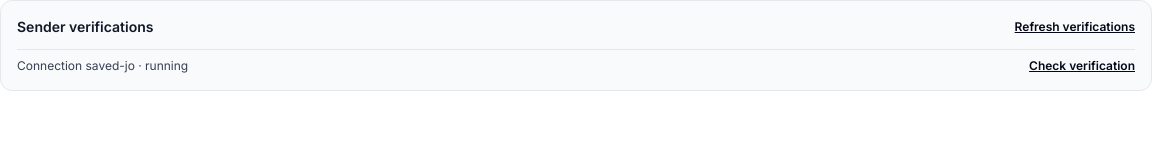
Test: server-backed sender recovery › malformed or mismatched completion cannot report success {"workspace_id":"other"}
Click the button "Check verification": (1082, 66) [1029,58,1135,74]
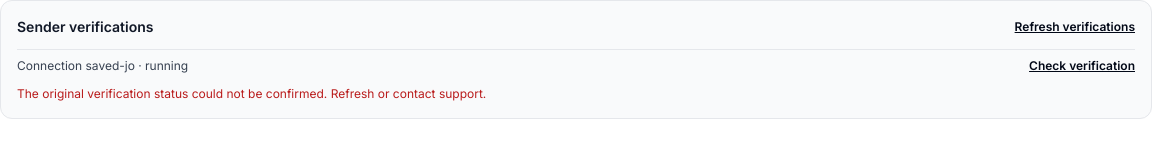
expect the message is shown: met, box [17,86,486,101]
